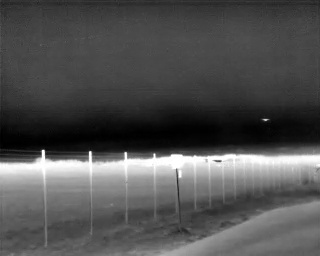AIRPLANE: (260, 116, 270, 123)
